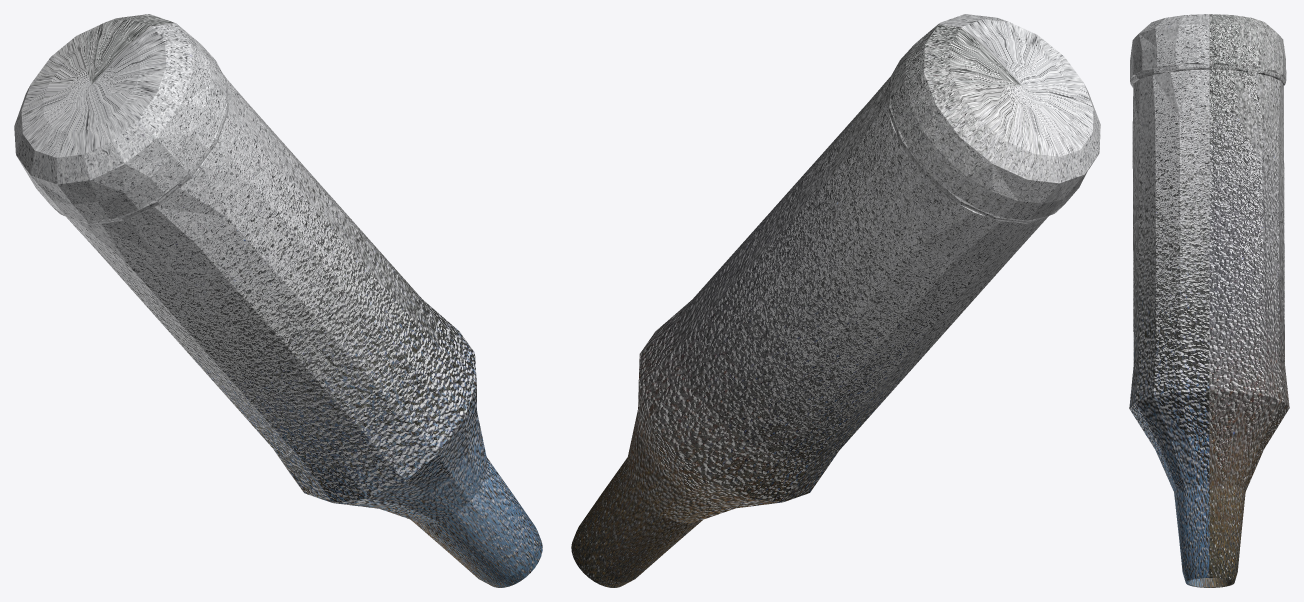
File: botella.dae
The picture shows the model from 3 angles, left to right: view 1: azimuth 30°, elevation 25°; view 2: azimuth 150°, elevation 25°; view 3: azimuth 270°, elevation 25°; orthographic projection. The views are drawn at different scales.
Parts seen in each view (by area): view 1: node; view 2: node; view 3: node.
Part boxes in pixels (bbox=[...]): node: bbox=[14, 14, 542, 587]; node: bbox=[571, 14, 1100, 587]; node: bbox=[1129, 14, 1289, 587].
Size of the model in its own units: 29.49 by 35.61 by 11.33.
1 material, 1 textured.
